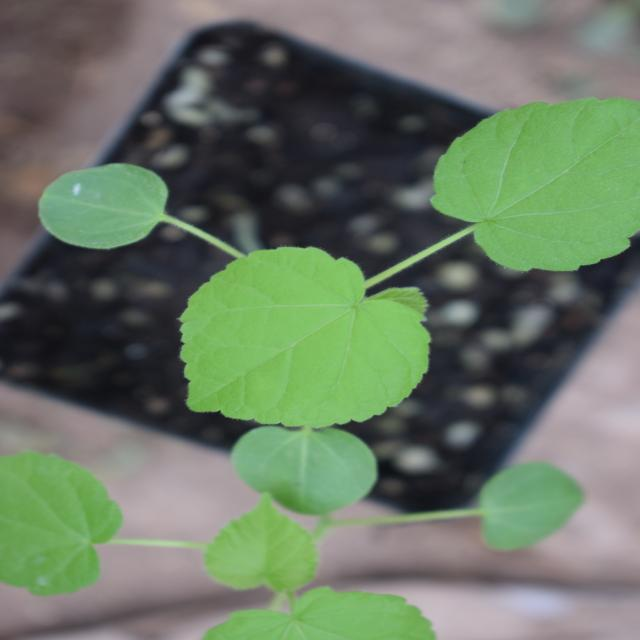abutilon theophrasti: (78, 1, 460, 601)
